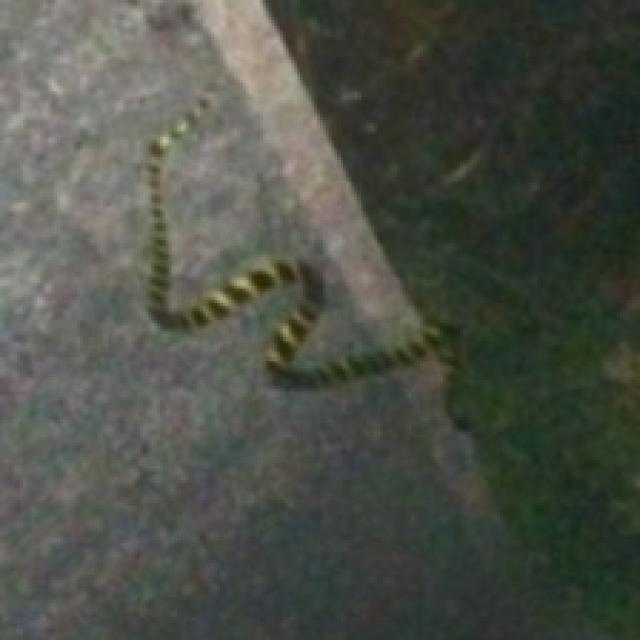mangrove cat snake: (146, 137, 472, 441)
